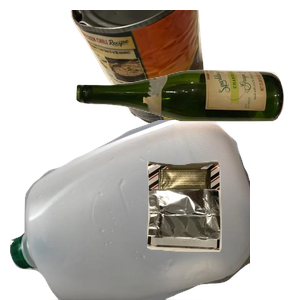glass: (74, 67, 300, 181)
metal: (68, 10, 265, 131)
plastic: (10, 120, 250, 300)
trash: (144, 158, 300, 300)
